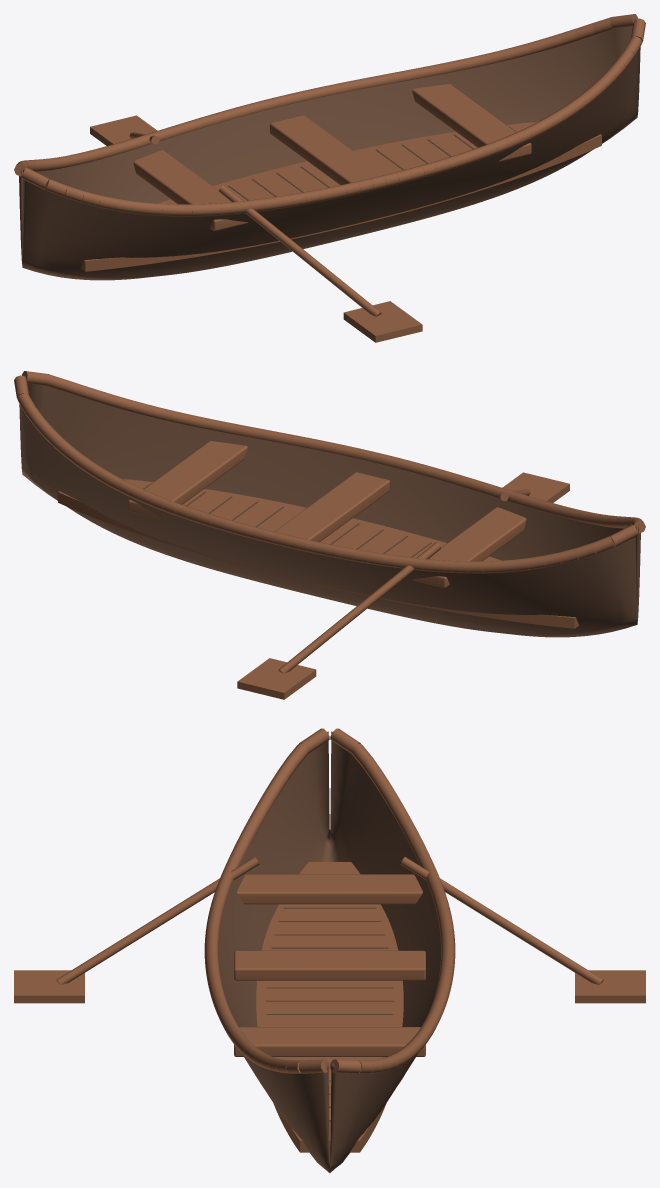
File: skiff-lod0.glb
The picture shows the model from 3 angles, top to bottom: view 1: azimuth 30°, elevation 25°; view 2: azimuth 150°, elevation 25°; view 3: azimuth 270°, elevation 25°; orthographic projection. The views are drawn at different scales.
Parts seen in each view (by area): view 1: skiff.hull, skiff.wood; view 2: skiff.hull, skiff.wood; view 3: skiff.wood, skiff.hull.
Boxes of the visible parts, bbox=[...] form: skiff.hull: bbox=[19, 18, 640, 280]; skiff.wood: bbox=[14, 14, 645, 342]; skiff.hull: bbox=[19, 375, 640, 637]; skiff.wood: bbox=[14, 371, 645, 699]; skiff.wood: bbox=[14, 728, 645, 1152]; skiff.hull: bbox=[219, 731, 440, 1172].
Bounding box in the file's own units: 4.26 × 0.9637 × 3.38.
